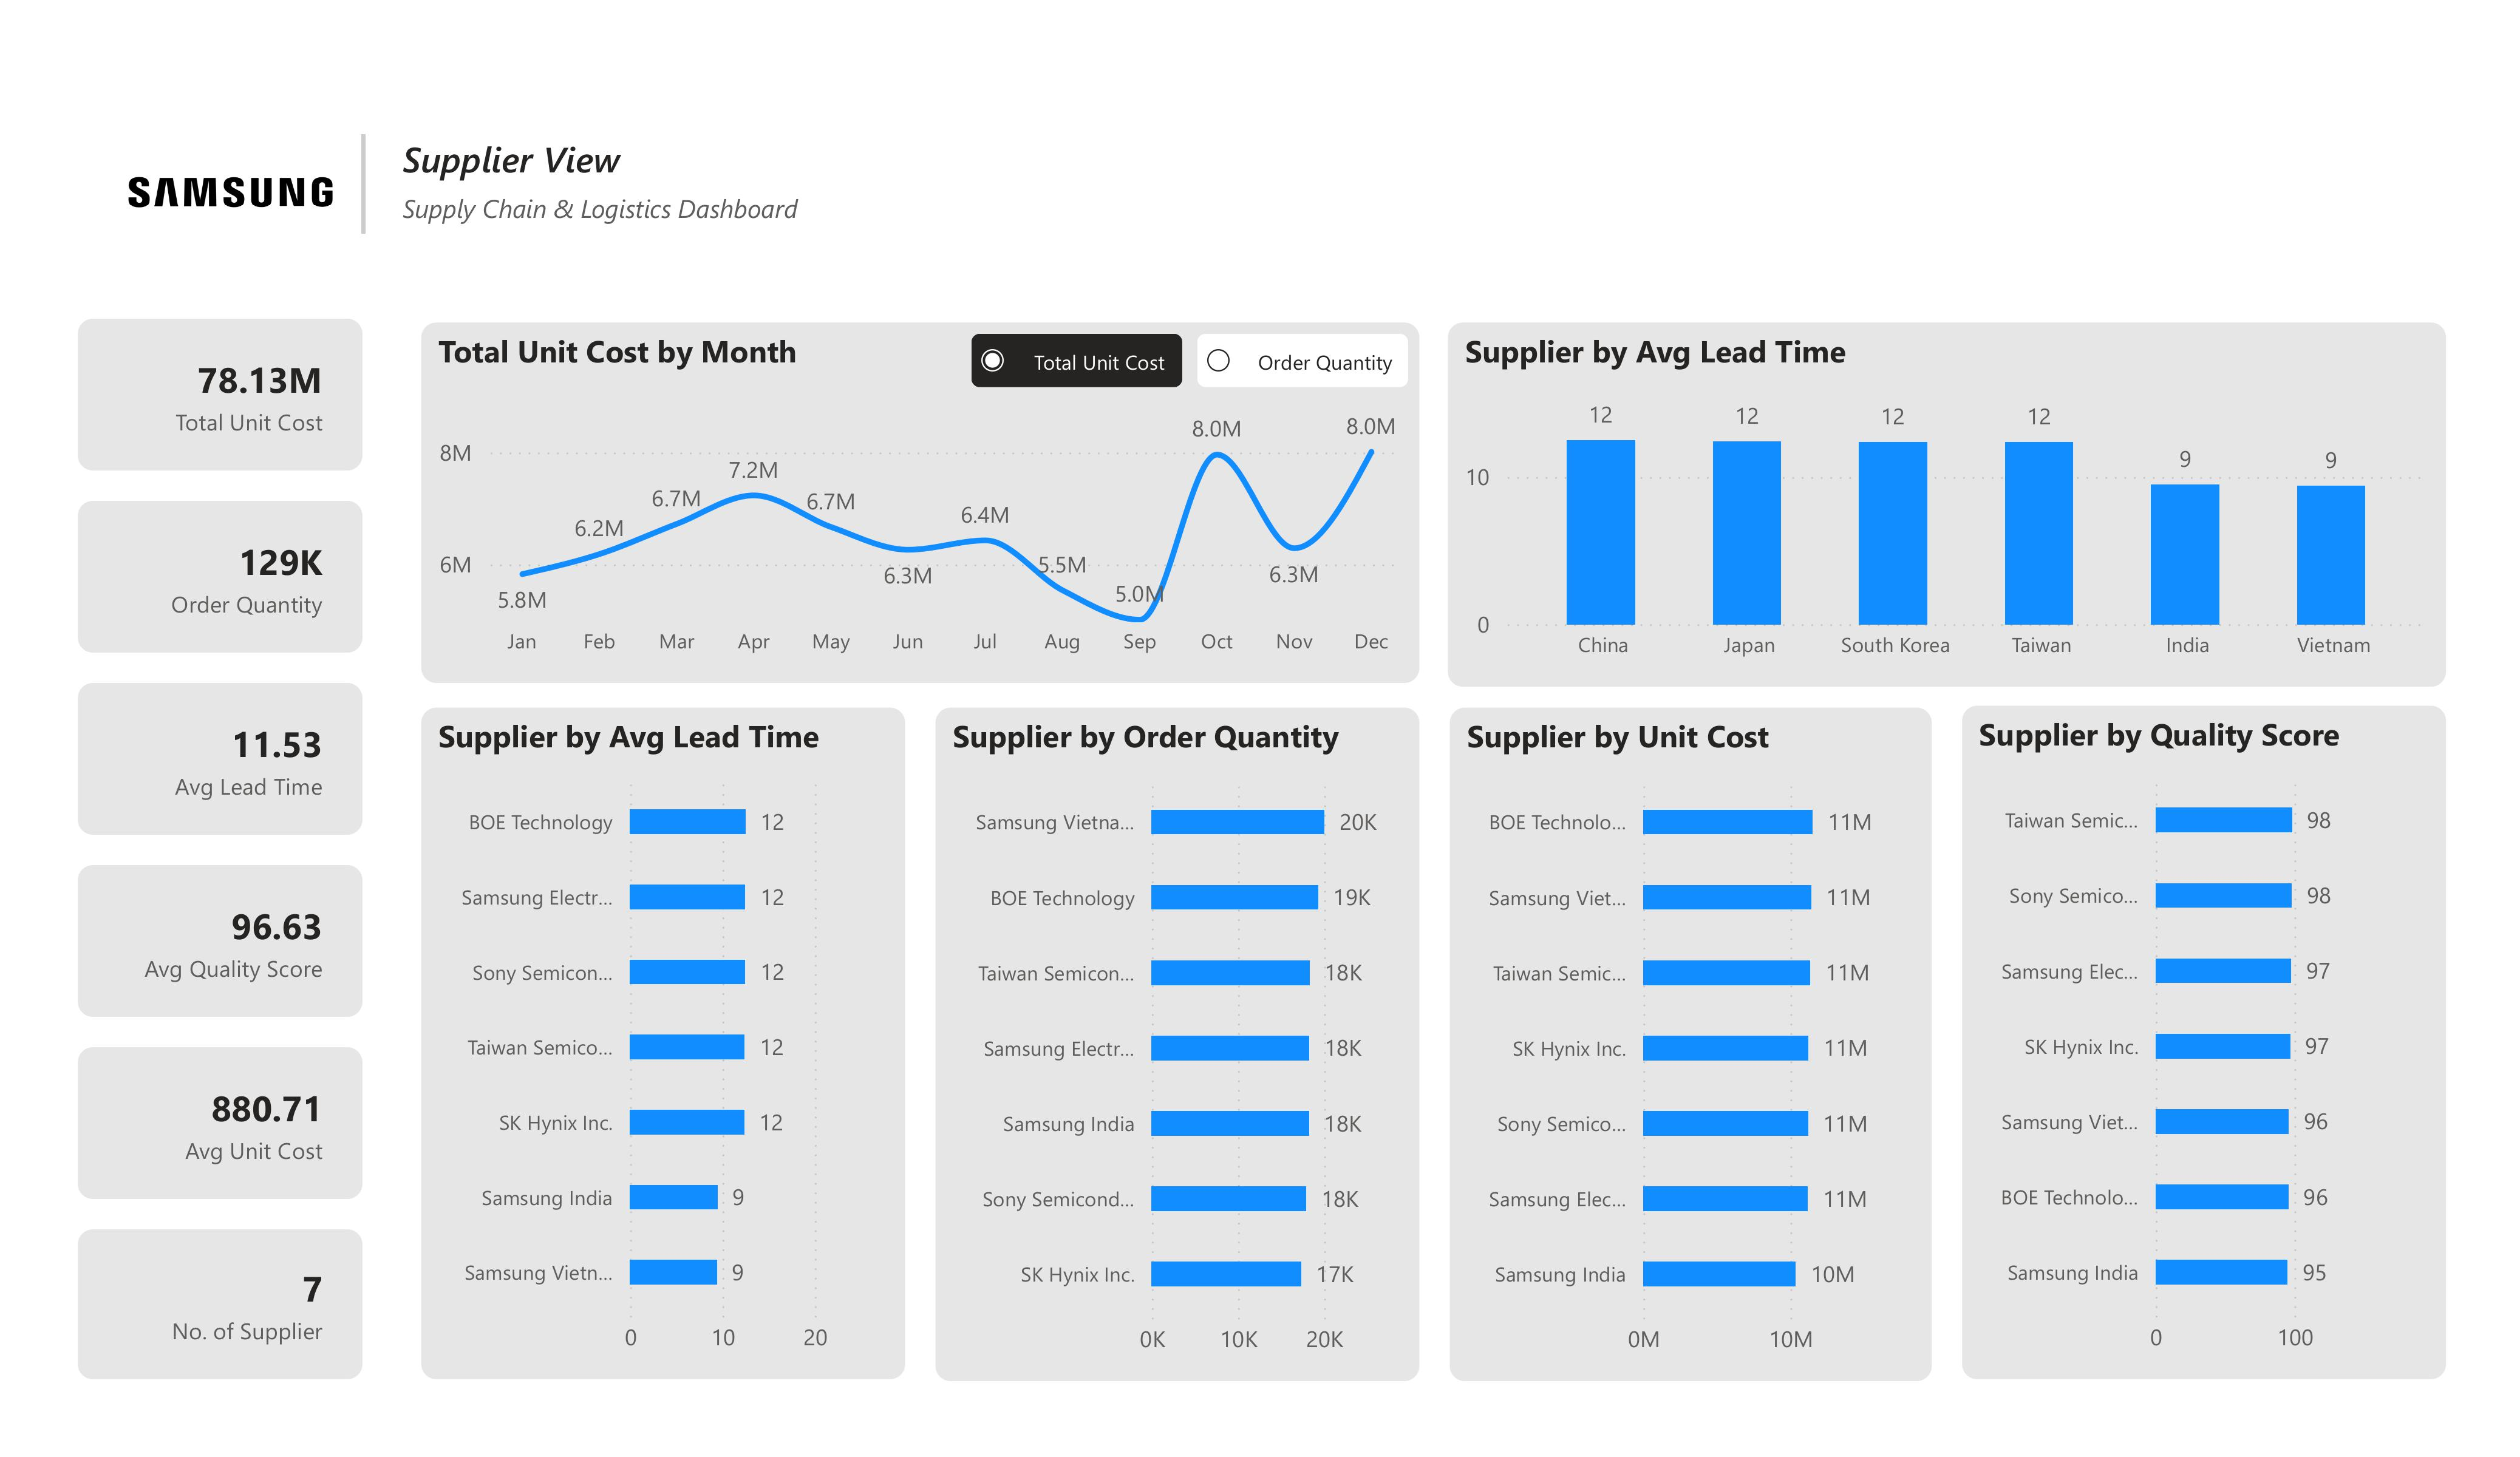

The dashboard page shown, as its layout file describes it:
{"tool":"powerbi","page":{"name":"Supplier","canvas":[1280,720],"ordinal":2},"visuals":[{"type":"textbox","title":"Supplier View","box":[182.9,46.7,228.6,52.5],"z":0},{"type":"shape","box":[151.8,46.7,31.1,52.5],"z":1000},{"type":"image","box":[35,46.7,120,60],"z":2000},{"type":"cardVisual","fields":{"Data":["MeasuresTable.Order_Quantity"]},"box":[17.2,240.1,150,80],"z":3000},{"type":"cardVisual","fields":{"Data":["MeasuresTable.Avg Lead Time"]},"box":[17.2,336.1,150,80],"z":4000},{"type":"cardVisual","fields":{"Data":["MeasuresTable.Avg_quality_score"]},"box":[17.4,432.1,149.8,79.8],"z":5000},{"type":"cardVisual","fields":{"Data":["MeasuresTable.Avg_Unit_Cost"]},"box":[17.4,527.9,149.8,79.8],"z":6000},{"type":"cardVisual","fields":{"Data":["CountNonNull(dim_supplier.supplier_id)"]},"box":[17.4,623.7,149.8,79.8],"z":7000},{"type":"cardVisual","fields":{"Data":["MeasuresTable.Total_Unit_Cost"]},"box":[17.4,144.1,150,80],"z":8000},{"type":"barChart","title":"Supplier by Avg Lead Time","fields":{"Y":["MeasuresTable.Avg Lead Time"],"Category":["dim_supplier.supplier_name"]},"box":[197.7,349.3,255.5,353.9],"z":9000},{"type":"barChart","title":"Supplier by Order Quantity","fields":{"Y":["MeasuresTable.Order_Quantity"],"Category":["dim_supplier.supplier_name"]},"box":[469.1,349.3,254.6,354.8],"z":10000},{"type":"barChart","title":"Supplier by Unit Cost","fields":{"Y":["MeasuresTable.Total_Unit_Cost"],"Category":["dim_supplier.supplier_name"]},"box":[739.6,349.3,254.6,354.8],"z":11000},{"type":"columnChart","title":"Supplier by Avg Lead Time","fields":{"Category":["dim_supplier.country"],"Y":["MeasuresTable.Avg Lead Time"]},"box":[739.3,146.2,525.4,191.4],"z":12000},{"type":"lineChart","title":"Total Unit Cost by Month","fields":{"Y":["MeasureTable.Total Unit Cost"],"Category":["dim_date.Month_Name_Short"]},"box":[197.7,146.2,526,189.6],"z":13000,"group":"g1"},{"type":"barChart","title":"Supplier by Quality Score","fields":{"Y":["MeasuresTable.Avg_Quality_Score"],"Category":["dim_supplier.supplier_name"]},"box":[1010.1,348.4,254.6,354.8],"z":13000},{"type":"group","id":"g1","title":"Group 1","box":[197.7,146.2,526.3,189.6],"z":14000},{"type":"advancedSlicerVisual","fields":{"Values":["Cost_Qty_Supplier.Cost Qty Supplier"]},"box":[482.9,147.1,241,37.9],"z":14000,"group":"g1"}]}

Visuals, with their boxes on the page's 1280x720 design canvas (x1, y1, x2, y2). These are canvas units, not pixel positions in the 2520x1457 screenshot, which may show the page scaled, cropped or inside an application window:
"Supplier View" textbox: Rect(183, 47, 412, 99)
shape: Rect(152, 47, 183, 99)
image: Rect(35, 47, 155, 107)
cardVisual - MeasuresTable.Order_Quantity: Rect(17, 240, 167, 320)
cardVisual - MeasuresTable.Avg Lead Time: Rect(17, 336, 167, 416)
cardVisual - MeasuresTable.Avg_quality_score: Rect(17, 432, 167, 512)
cardVisual - MeasuresTable.Avg_Unit_Cost: Rect(17, 528, 167, 608)
cardVisual - CountNonNull(dim_supplier.supplier_id): Rect(17, 624, 167, 704)
cardVisual - MeasuresTable.Total_Unit_Cost: Rect(17, 144, 167, 224)
"Supplier by Avg Lead Time" barChart: Rect(198, 349, 453, 703)
"Supplier by Order Quantity" barChart: Rect(469, 349, 724, 704)
"Supplier by Unit Cost" barChart: Rect(740, 349, 994, 704)
"Supplier by Avg Lead Time" columnChart: Rect(739, 146, 1265, 338)
"Total Unit Cost by Month" lineChart: Rect(198, 146, 724, 336)
"Supplier by Quality Score" barChart: Rect(1010, 348, 1265, 703)
"Group 1" group: Rect(198, 146, 724, 336)
advancedSlicerVisual - Cost_Qty_Supplier.Cost Qty Supplier: Rect(483, 147, 724, 185)
